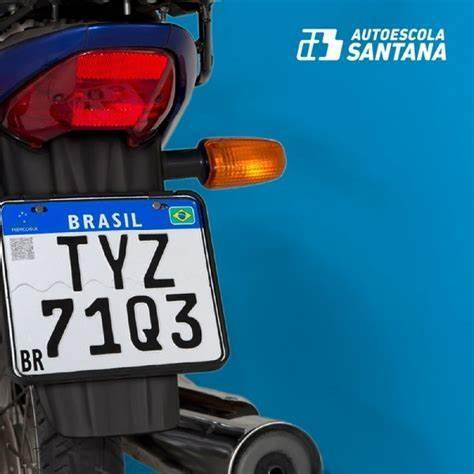placa de veiculo: (0, 183, 246, 388)
